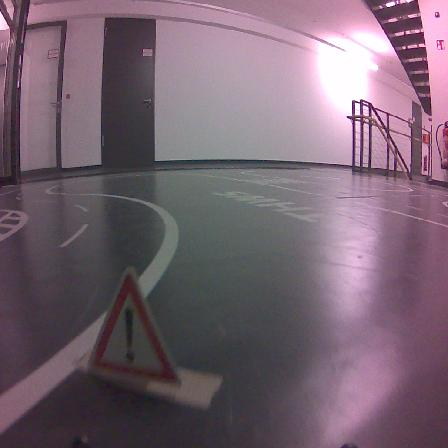ATTENTION: (89, 269, 177, 381)
